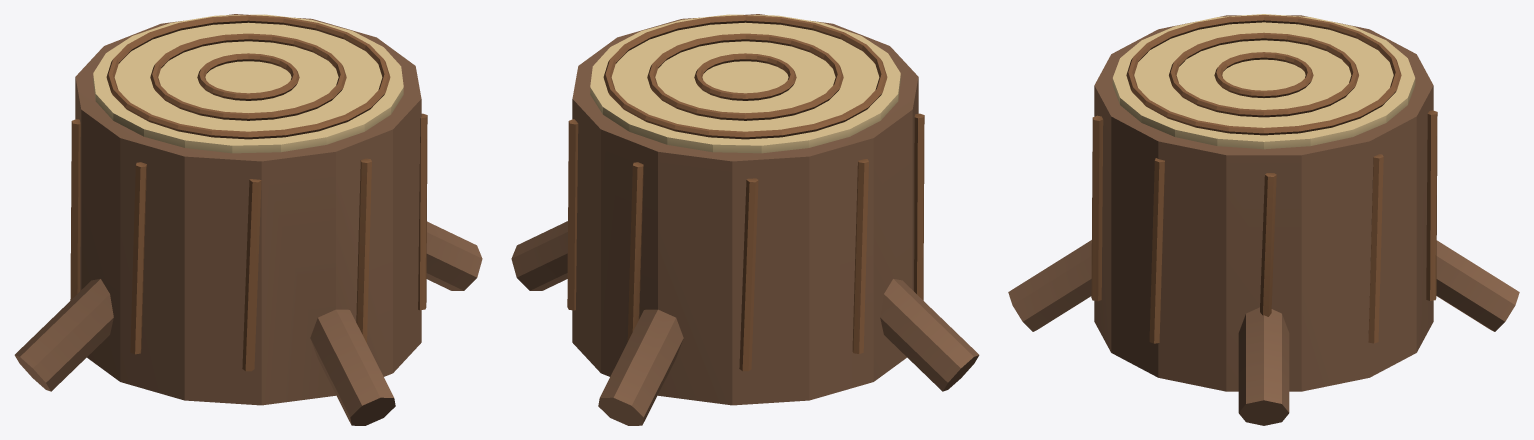
Rendered from tree-stump.glb.
The picture shows the model from 3 angles, left to right: view 1: azimuth 30°, elevation 25°; view 2: azimuth 150°, elevation 25°; view 3: azimuth 270°, elevation 25°; orthographic projection. The views are drawn at different scales.
Visible parts, largest first — view 1: stump bark, sawn timber, growth ring; view 2: stump bark, sawn timber, growth ring; view 3: stump bark, sawn timber, growth ring.
Part boxes in pixels (bbox=[...]): stump bark: bbox=[14, 14, 482, 425]; sawn timber: bbox=[93, 14, 403, 153]; growth ring: bbox=[70, 15, 427, 371]; stump bark: bbox=[511, 14, 979, 425]; sawn timber: bbox=[590, 14, 900, 153]; growth ring: bbox=[567, 15, 924, 371]; stump bark: bbox=[1008, 15, 1519, 425]; sawn timber: bbox=[1112, 14, 1415, 149]; growth ring: bbox=[1091, 15, 1437, 343].
Size of the model in its own units: 0.7843 by 0.4363 by 0.7843.
